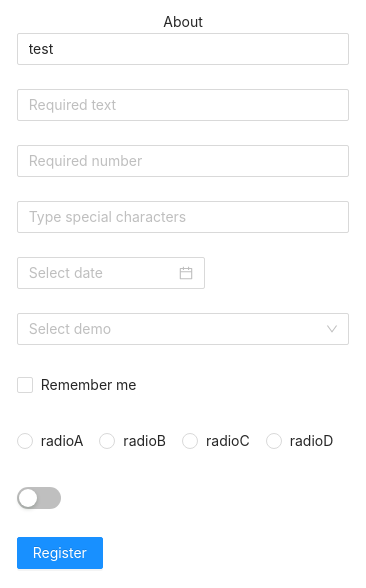
Scenario: Home › should display error message when required input is empty
Step 1. Click the button with test id "submitFormBtn" → (60, 553), box [17,537,103,569]
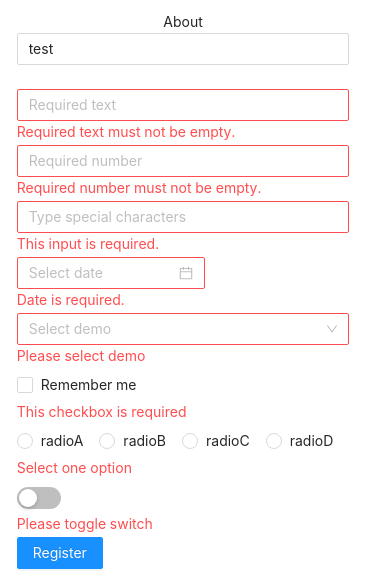
Expected: the text "Required text must not be empty." is shown, [17,123,235,140]
